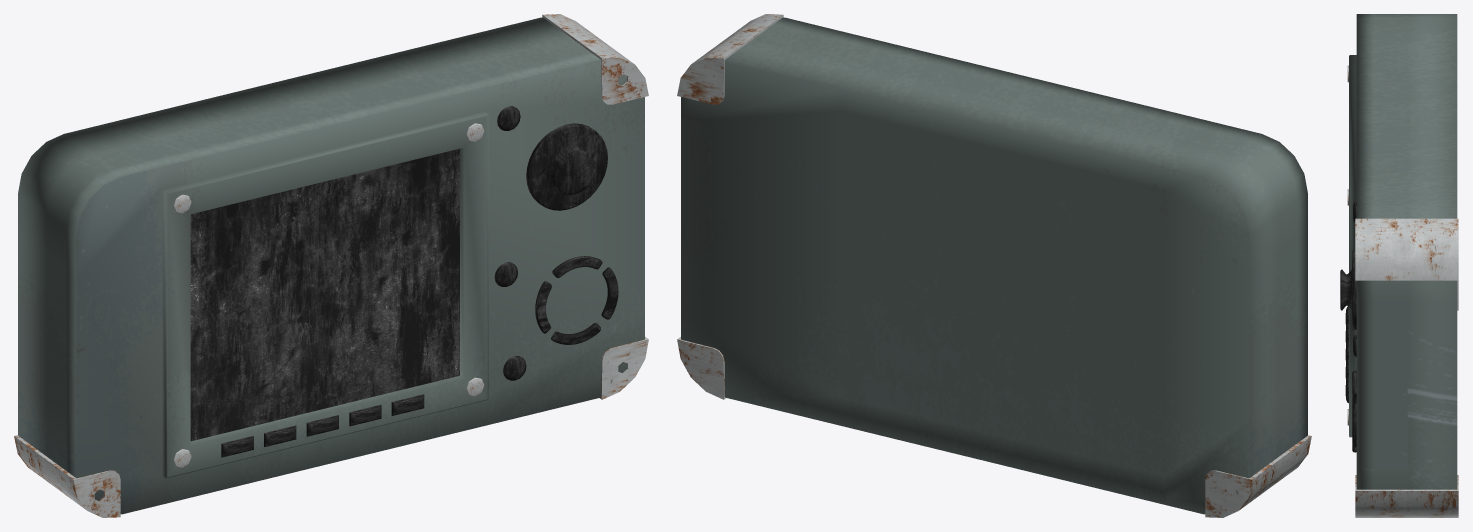
File: Shifter2 (2).glb
3 views of the same model, side by side, from view 1: azimuth 30°, elevation 25°; view 2: azimuth 150°, elevation 25°; view 3: azimuth 270°, elevation 25° (orthographic). The views are drawn at different scales.
Visible parts, largest first — view 1: Shifter; view 2: Shifter; view 3: Shifter.
Boxes of the visible parts, x1=… form: Shifter: x1=14, y1=14, x2=648, y2=517; Shifter: x1=677, y1=14, x2=1311, y2=517; Shifter: x1=1340, y1=14, x2=1458, y2=517.
Bounding box in the file's own units: 1.33 × 0.7569 × 0.2754.
Materials: 4 (4 with a texture image).
